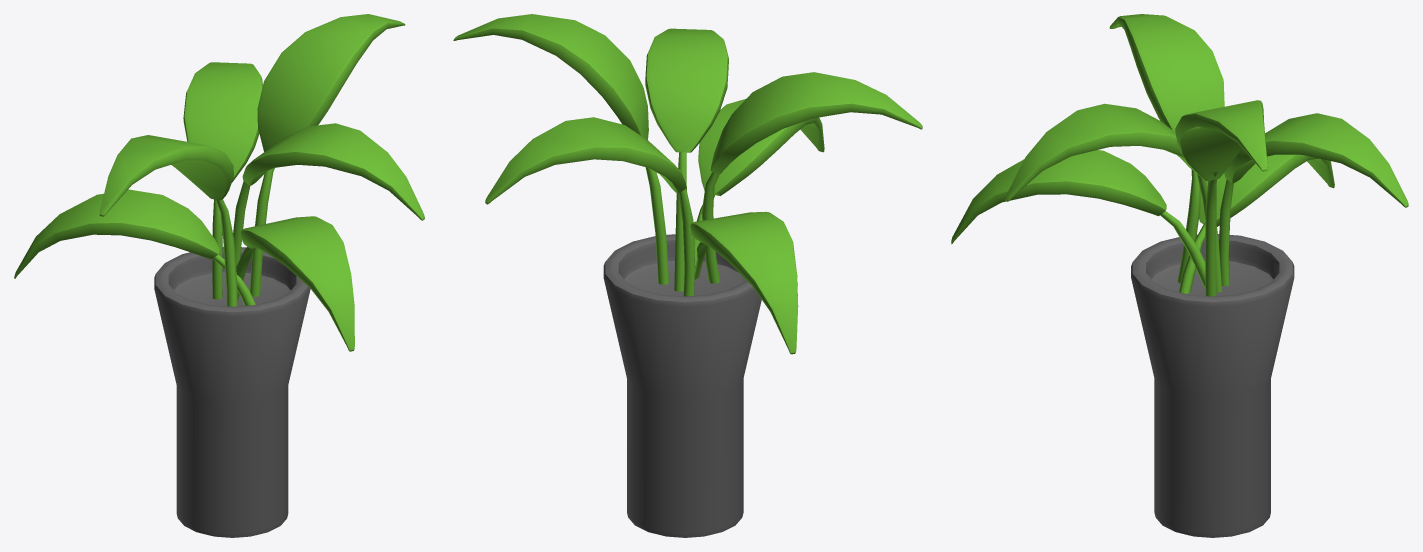
File: SM_plant_room_01.fbx
The picture shows the model from 3 angles, left to right: view 1: azimuth 30°, elevation 25°; view 2: azimuth 150°, elevation 25°; view 3: azimuth 270°, elevation 25°; orthographic projection. The views are drawn at different scales.
Parts seen in each view (by area): view 1: Object074; view 2: Object074; view 3: Object074.
Part boxes in pixels (x1,y1,x2,y2): Object074: (14, 14, 424, 537); Object074: (453, 14, 922, 537); Object074: (951, 14, 1408, 537).
Bounding box in the file's own units: 39.56 × 45.11 × 39.83.
